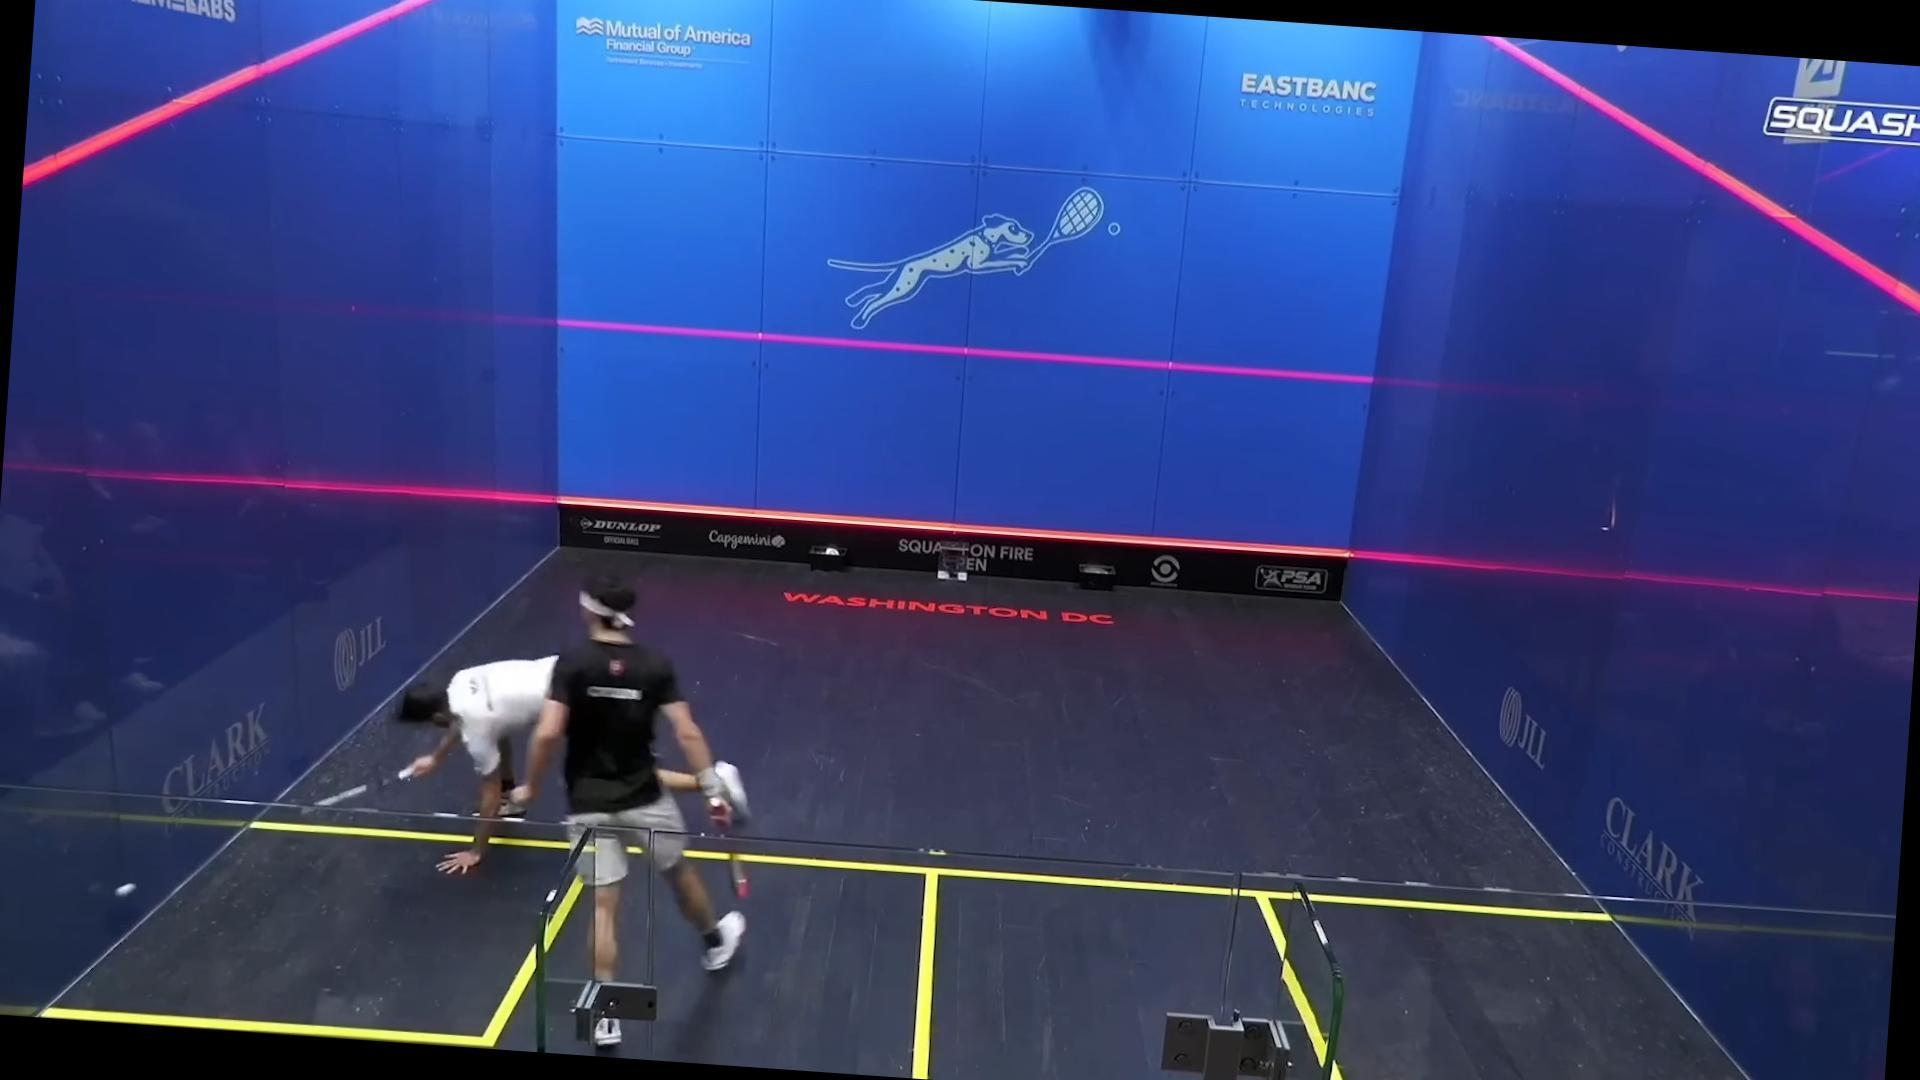Squash-Ball: (105, 866, 151, 912)
